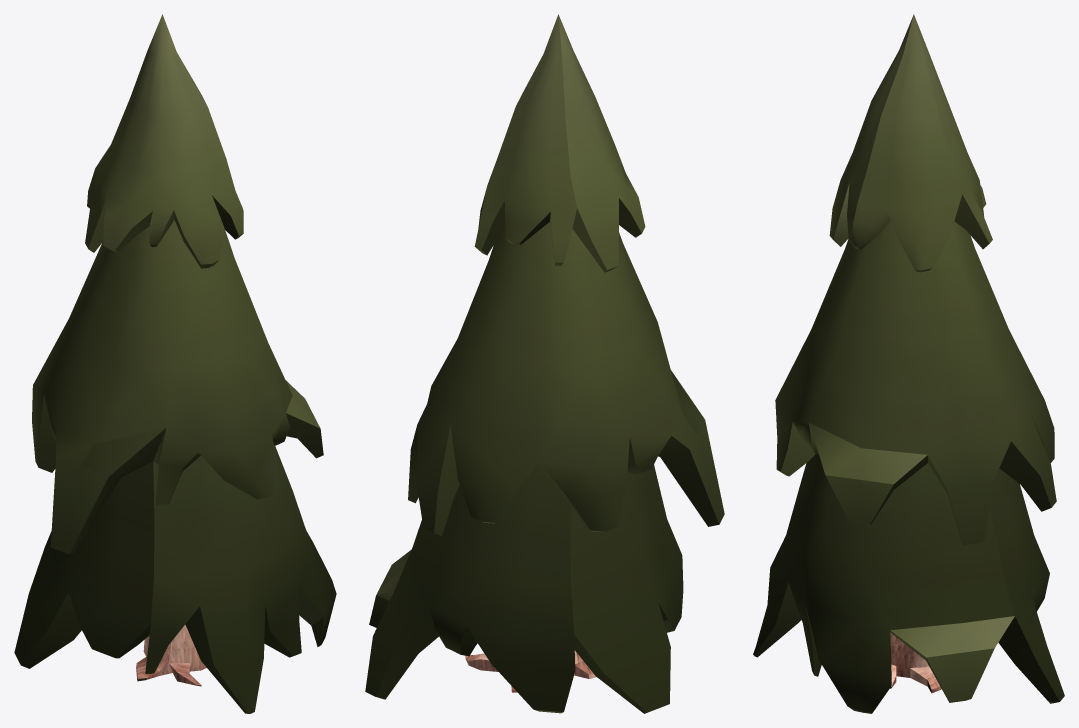
The model's file is bob_tree_pine_large.FBX.
The picture shows the model from 3 angles, left to right: view 1: azimuth 30°, elevation 25°; view 2: azimuth 150°, elevation 25°; view 3: azimuth 270°, elevation 25°; orthographic projection. The views are drawn at different scales.
Parts seen in each view (by area): view 1: pinebasic_geo; view 2: pinebasic_geo; view 3: pinebasic_geo.
Boxes of the visible parts, box(x1,y1,x2,y2) form: pinebasic_geo: box(14, 14, 336, 713); pinebasic_geo: box(365, 14, 724, 713); pinebasic_geo: box(753, 14, 1064, 713).
Bounding box in the file's own units: 274 × 568 × 251.
Materials: 1 (1 with a texture image).
